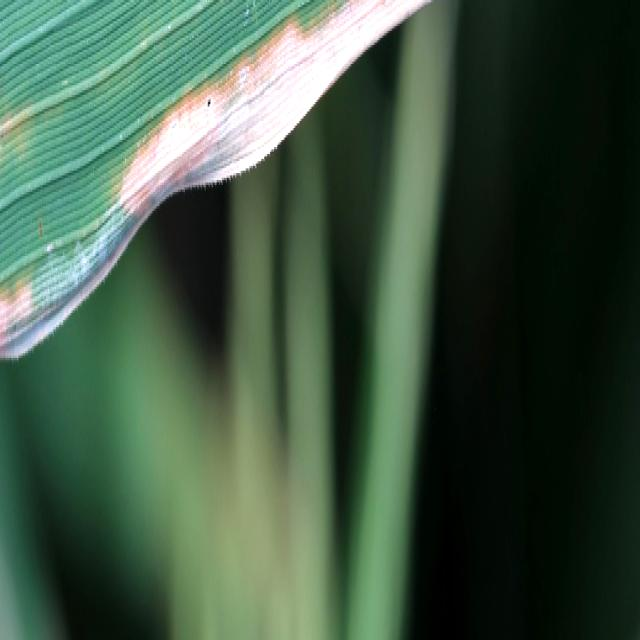BLB: (120, 0, 427, 215)
